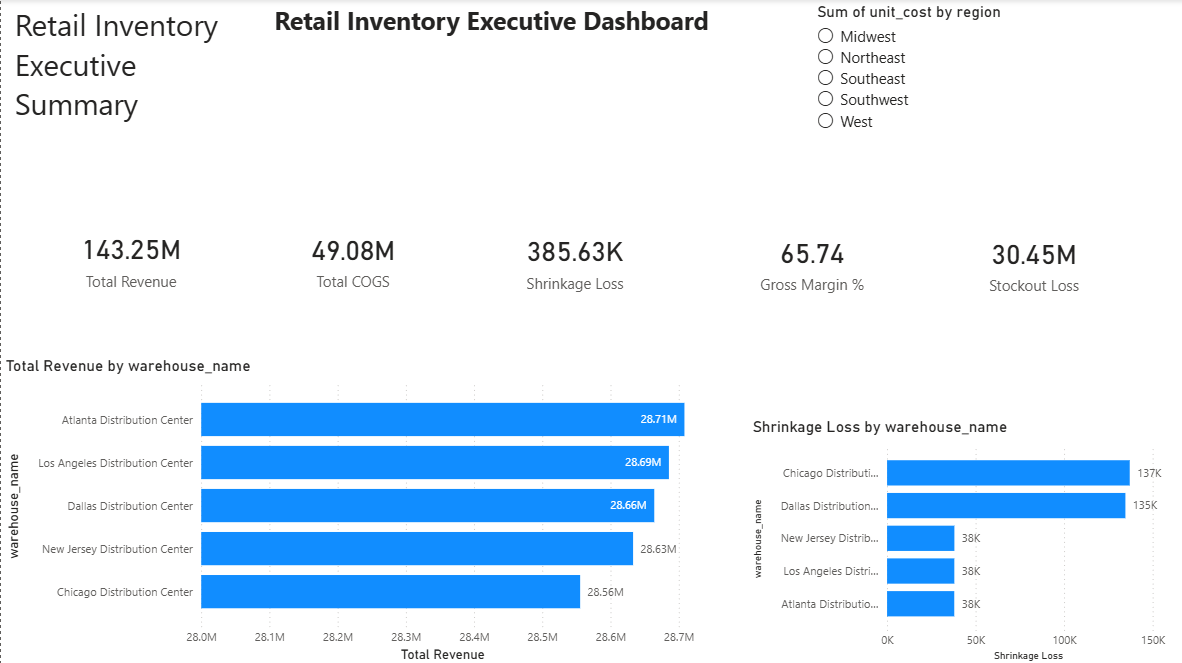

The page's visual inventory and layout, read from the dashboard file:
{"tool":"powerbi","page":{"name":"Executive summary","canvas":[1280,720],"ordinal":0},"visuals":[{"type":"textbox","box":[10,0,280,280],"z":0},{"type":"card","fields":{"Values":["retail inventory_transactions.Total Revenue"]},"box":[0,139.3,280.1,280.1],"z":1000},{"type":"card","fields":{"Values":["retail inventory_transactions.Shrinkage Loss"]},"box":[479.3,176.5,280.1,210.5],"z":2000},{"type":"card","fields":{"Values":["retail inventory_transactions.Gross Margin %"]},"box":[735.1,178.1,280.1,210.5],"z":3000},{"type":"card","fields":{"Values":["retail inventory_transactions.Total COGS"]},"box":[239.6,174.9,280.1,210.5],"z":4000},{"type":"barChart","fields":{"Category":["retail warehouses.warehouse_name"],"Y":["retail inventory_transactions.Total Revenue"]},"box":[0,385.4,981.3,335.2],"z":5000},{"type":"card","fields":{"Values":["retail inventory_transactions.Stockout Loss"]},"box":[1015.3,116.6,199.2,335.2],"z":6000},{"type":"clusteredBarChart","fields":{"Y":["retail inventory_transactions.Shrinkage Loss"],"Category":["retail warehouses.warehouse_name"]},"box":[1015,452,199,268],"z":7000},{"type":"textbox","box":[289.8,0,480.9,174.9],"z":8000},{"type":"listSlicer","fields":{"Values":["retail warehouses.region"]},"box":[876,3.2,275.3,215.4],"z":9000}]}

Visuals, with their boxes in screenshot pixels (x1, y1, x2, y2), scaled from the page's 1280x720 canvas onto the 1182x663 screenshot:
textbox: bbox=[9, 0, 268, 258]
card - retail inventory_transactions.Total Revenue: bbox=[0, 128, 259, 386]
card - retail inventory_transactions.Shrinkage Loss: bbox=[443, 163, 701, 356]
card - retail inventory_transactions.Gross Margin %: bbox=[679, 164, 937, 358]
card - retail inventory_transactions.Total COGS: bbox=[221, 161, 480, 355]
barChart - retail warehouses.warehouse_name x retail inventory_transactions.Total Revenue: bbox=[0, 355, 906, 662]
card - retail inventory_transactions.Stockout Loss: bbox=[938, 107, 1122, 416]
clusteredBarChart - retail inventory_transactions.Shrinkage Loss x retail warehouses.warehouse_name: bbox=[937, 416, 1121, 662]
textbox: bbox=[268, 0, 712, 161]
listSlicer - retail warehouses.region: bbox=[809, 3, 1063, 201]
